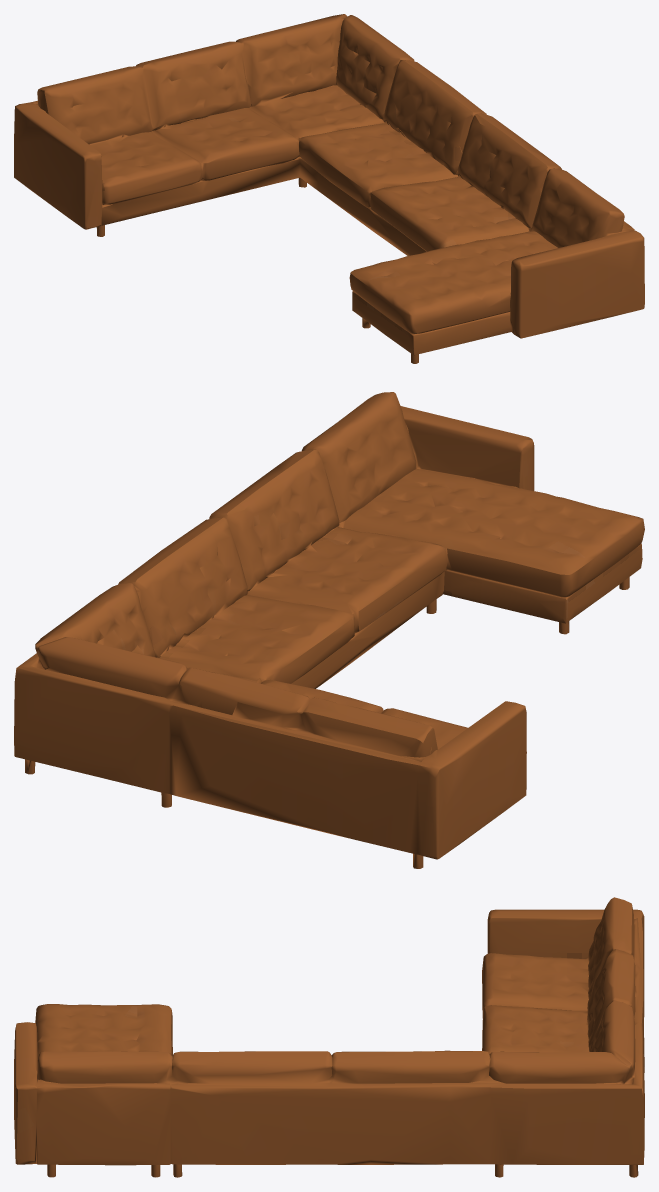
File: 12 - LANDSKRONA Corner sofa, 6-seat - with chaise longueGrannBomstad golden-brownmetal.glb
3 renders of one model, top to bottom at view 1: azimuth 30°, elevation 25°; view 2: azimuth 150°, elevation 25°; view 3: azimuth 270°, elevation 25°, orthographic. The views are drawn at different scales.
Parts seen in each view (by area): view 1: ProcessedMeshNode; view 2: ProcessedMeshNode; view 3: ProcessedMeshNode.
Boxes of the visible parts, left/top/right/bottom form: ProcessedMeshNode: left=14, top=14, right=644, bottom=363; ProcessedMeshNode: left=14, top=392, right=644, bottom=868; ProcessedMeshNode: left=14, top=897, right=644, bottom=1177.
Size of the model in its own units: 2.4 by 0.7876 by 3.57.
Materials: 1 (1 with a texture image).
